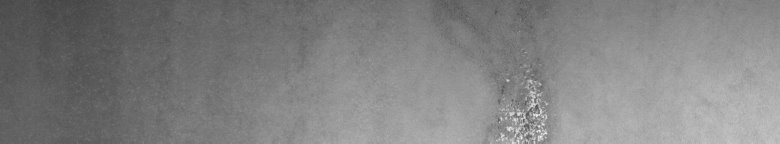hc: (491, 8, 556, 136)
